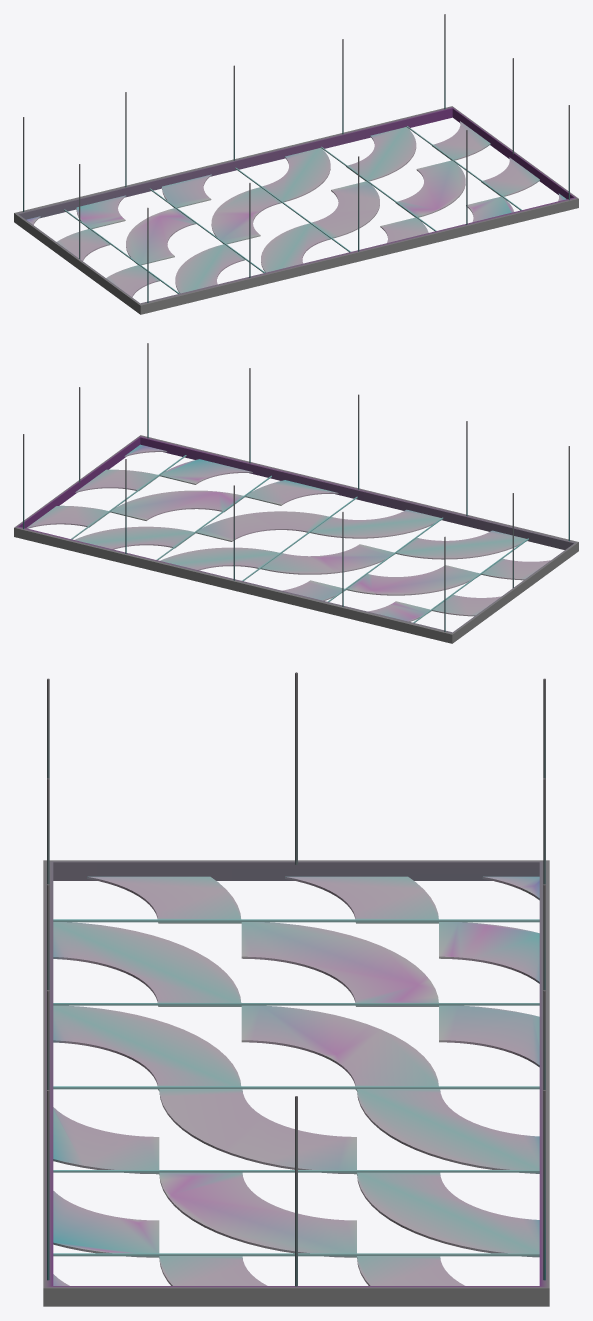
The model's file is simready-lighting_overheadLed_hexGrid_a04.glb.
3 renders of one model, top to bottom at view 1: azimuth 30°, elevation 25°; view 2: azimuth 150°, elevation 25°; view 3: azimuth 270°, elevation 25°, orthographic. The views are drawn at different scales.
Parts seen in each view (by area): view 1: rim, curved_band.012, curved_band.007, curved_band.022, curved_band.017, curved_band.023, curved_band.018, curved_band.011, curved_band.006, curved_band.027, curved_band.028, curved_band.013 (+5 smaller); view 2: rim, curved_band.007, curved_band.012, curved_band.022, curved_band.017, curved_band.011, curved_band.006, curved_band.023, curved_band.018, curved_band.016, curved_band.021, curved_band.027 (+5 smaller); view 3: rim, curved_band.007, curved_band.022, curved_band.017, curved_band.012, curved_band.006, curved_band.023, curved_band.011, curved_band.018, curved_band.001, curved_band.002, curved_band.021 (+10 smaller).
Part boxes in pixels (bbox=[...]): rim: bbox=[14, 106, 578, 314]; curved_band.012: bbox=[211, 187, 281, 244]; curved_band.007: bbox=[126, 208, 195, 265]; curved_band.022: bbox=[396, 160, 465, 217]; curved_band.017: bbox=[311, 181, 379, 238]; curved_band.023: bbox=[346, 127, 416, 181]; curved_band.018: bbox=[262, 148, 330, 202]; curved_band.011: bbox=[261, 223, 330, 272]; curved_band.006: bbox=[175, 244, 244, 293]; curved_band.027: bbox=[481, 157, 539, 196]; curved_band.028: bbox=[432, 121, 490, 160]; curved_band.013: bbox=[162, 174, 211, 208]; rim: bbox=[14, 435, 578, 643]; curved_band.007: bbox=[346, 565, 480, 595]; curved_band.012: bbox=[261, 544, 395, 574]; curved_band.022: bbox=[110, 490, 244, 520]; curved_band.017: bbox=[196, 511, 328, 541]; curved_band.011: bbox=[310, 509, 440, 538]; curved_band.006: bbox=[396, 530, 527, 559]; curved_band.023: bbox=[75, 526, 195, 549]; curved_band.018: bbox=[160, 547, 279, 570]; curved_band.016: bbox=[245, 480, 338, 505]; curved_band.021: bbox=[160, 459, 252, 484]; curved_band.027: bbox=[75, 469, 159, 492]; rim: bbox=[43, 860, 549, 1306]; curved_band.007: bbox=[241, 922, 438, 1006]; curved_band.022: bbox=[159, 1172, 356, 1257]; curved_band.017: bbox=[159, 1089, 356, 1174]; curved_band.012: bbox=[241, 1005, 438, 1090]; curved_band.006: bbox=[53, 922, 241, 1006]; curved_band.023: bbox=[357, 1172, 539, 1257]; curved_band.011: bbox=[53, 1005, 240, 1090]; curved_band.018: bbox=[357, 1089, 539, 1173]; curved_band.001: bbox=[87, 876, 241, 923]; curved_band.002: bbox=[285, 876, 438, 923]; curved_band.021: bbox=[53, 1191, 159, 1257].
Bounding box in the file's own units: 4.8 × 1.09 × 2.4.
